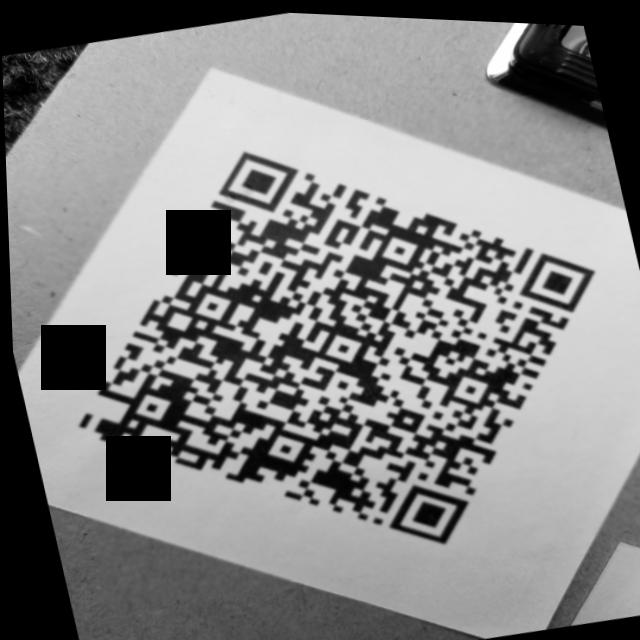QR_CODE: (4, 65, 640, 628)
